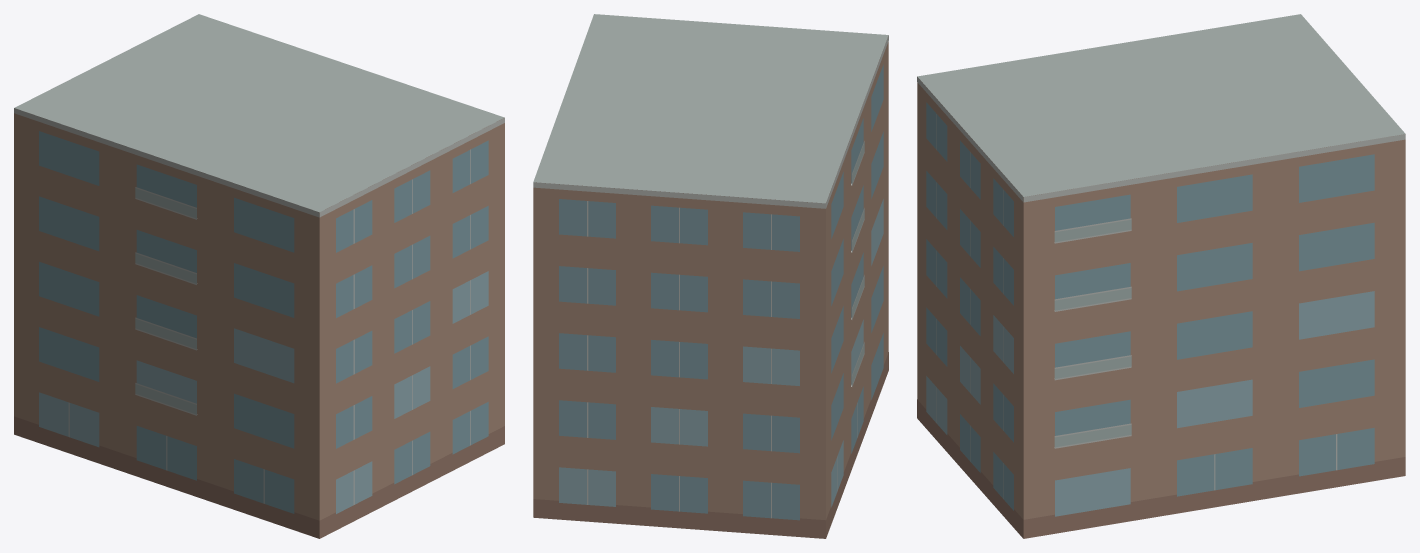
File: survey-upis-32843979.glb
3 renders of one model, left to right at view 1: azimuth 30°, elevation 25°; view 2: azimuth 150°, elevation 25°; view 3: azimuth 270°, elevation 25°, orthographic. The views are drawn at different scales.
Visible parts, largest first — view 1: survey-upis-32843979.tmp; view 2: survey-upis-32843979.tmp; view 3: survey-upis-32843979.tmp.
Boxes of the visible parts, x1,y1,x2,y2 form: survey-upis-32843979.tmp: (14,14,504,538); survey-upis-32843979.tmp: (533,14,888,538); survey-upis-32843979.tmp: (917,14,1405,538).
Bounding box in the file's own units: 17.34 × 15.1 × 19.57.
